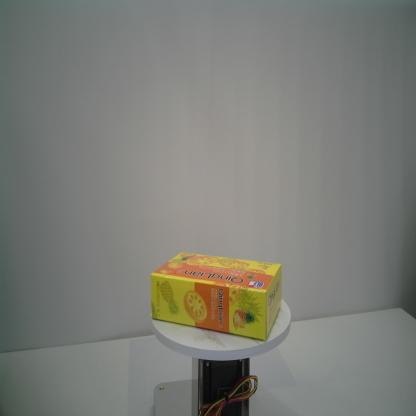Dessert: (150, 249, 283, 343)
